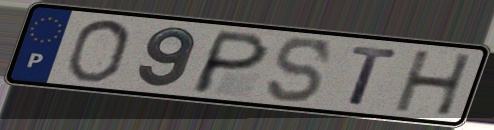9: (134, 24, 200, 90)
H: (392, 49, 476, 118)
O: (63, 18, 135, 84)
P: (186, 28, 274, 96)
S: (264, 35, 336, 105)
T: (346, 44, 402, 108)
